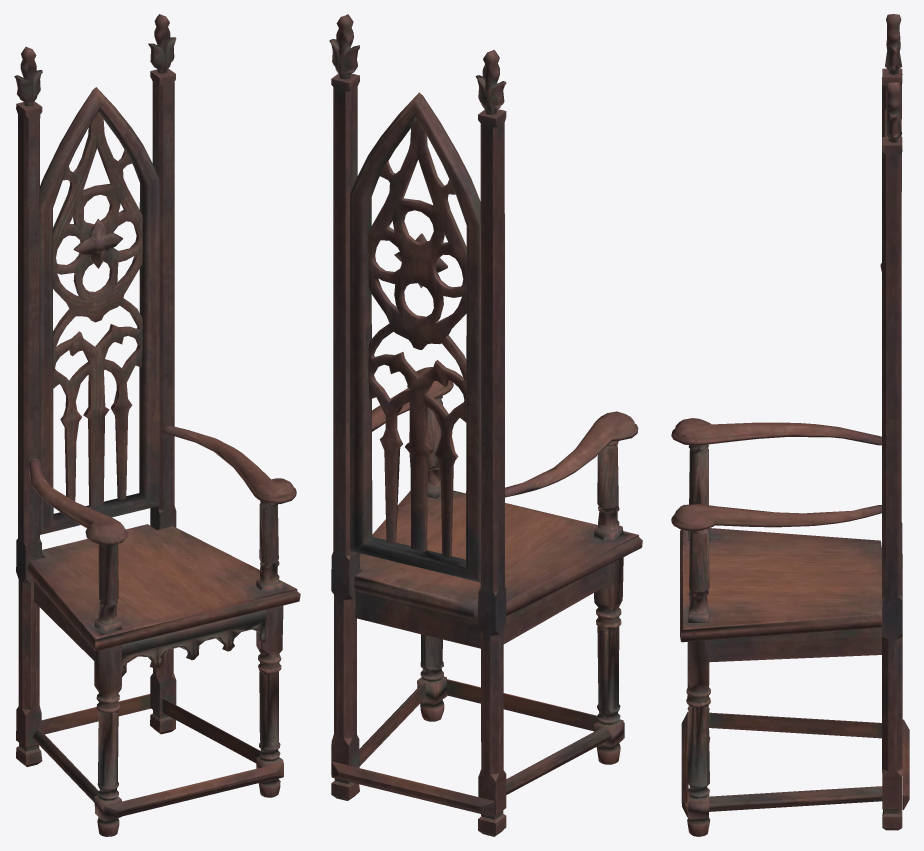
Rendered from woodenchair_01.glb.
3 renders of one model, left to right at view 1: azimuth 30°, elevation 25°; view 2: azimuth 150°, elevation 25°; view 3: azimuth 270°, elevation 25°, orthographic. The views are drawn at different scales.
Parts seen in each view (by area): view 1: WoodenChair_01; view 2: WoodenChair_01; view 3: WoodenChair_01.
Part boxes in pixels (box(x1,y1,x2,y2)): WoodenChair_01: box(14, 14, 300, 836); WoodenChair_01: box(329, 14, 642, 836); WoodenChair_01: box(671, 14, 909, 836).
Size of the model in its own units: 0.6873 by 2.27 by 0.6584.
1 material, 1 textured.
